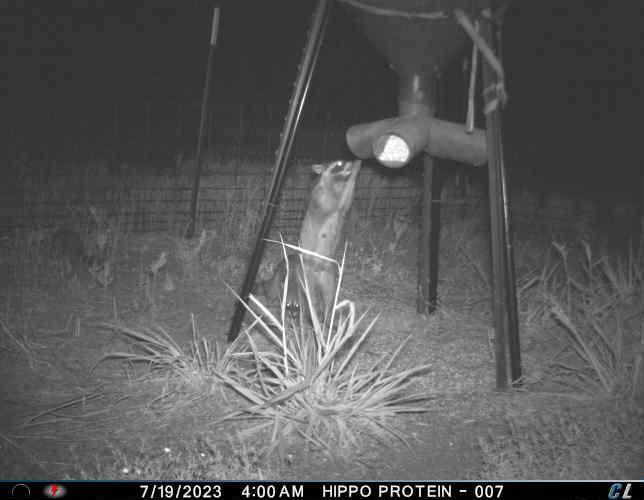Raccoon: (293, 156, 367, 319), (253, 252, 307, 321)
